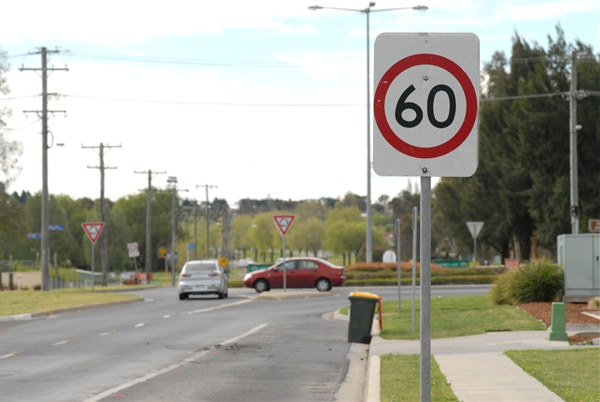Speed_limit_60km: (372, 55, 480, 159)
